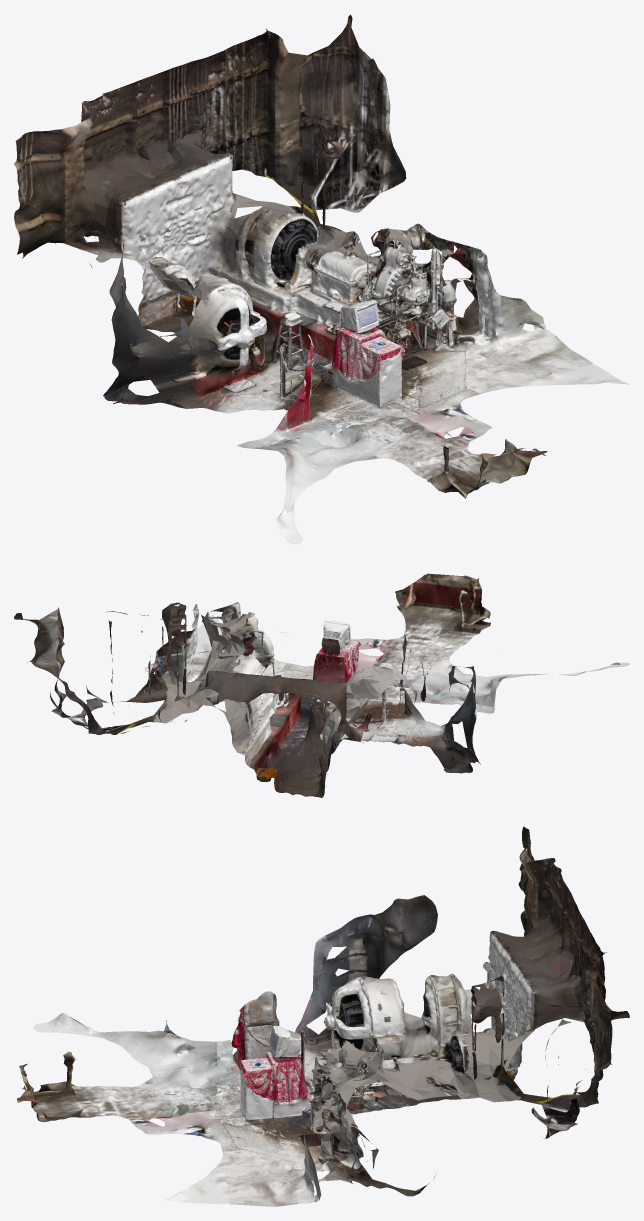
The model's file is SPAM-draco.glb.
The picture shows the model from 3 angles, top to bottom: view 1: azimuth 30°, elevation 25°; view 2: azimuth 150°, elevation 25°; view 3: azimuth 270°, elevation 25°; orthographic projection. The views are drawn at different scales.
Bounding box in the file's own units: 3.43 × 1.76 × 4.75.
Materials: 3 (3 with a texture image).
